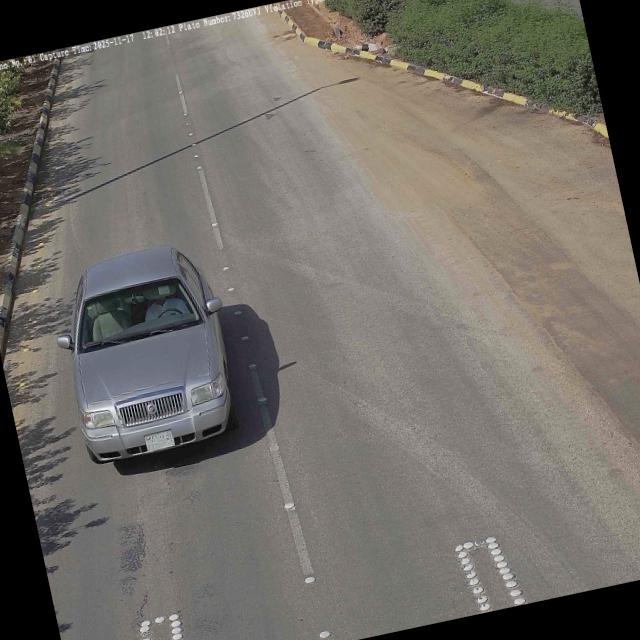person_without_seatbelt: (139, 282, 186, 323)
